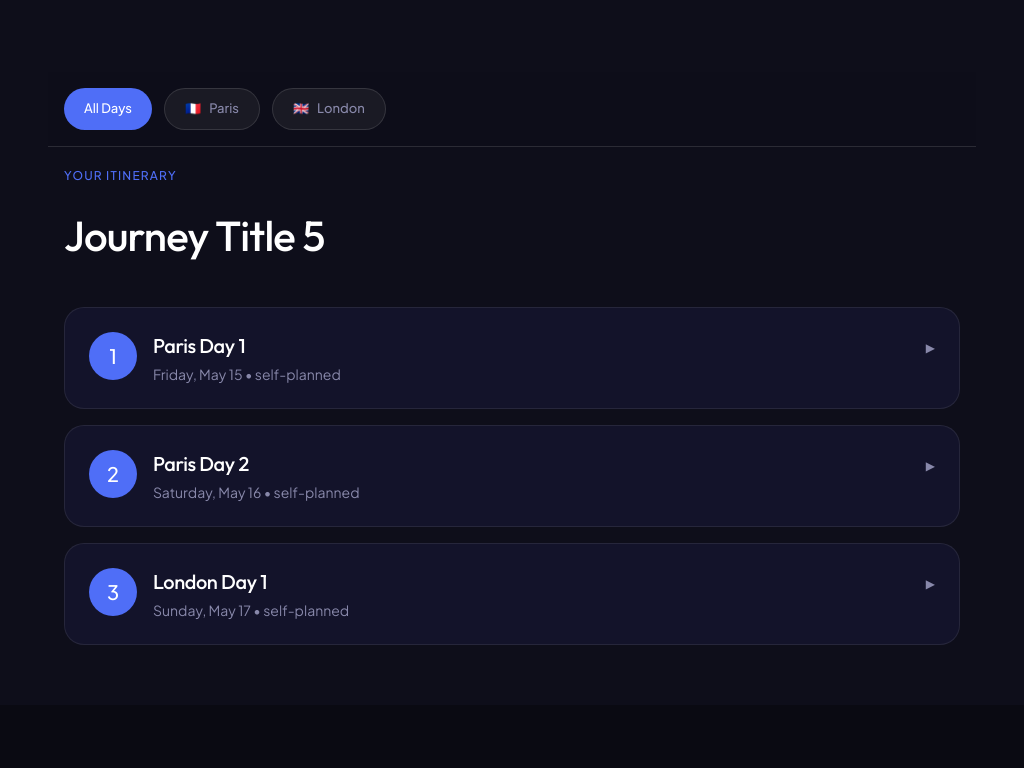
Test case: Itinerary and DayCard › Itinerary Filtering › filters by destination when a button is clicked
This screenshot has width=1024, height=768.
Click the text "Paris".
click(224, 109)  # box left=209, top=99, right=239, bottom=118
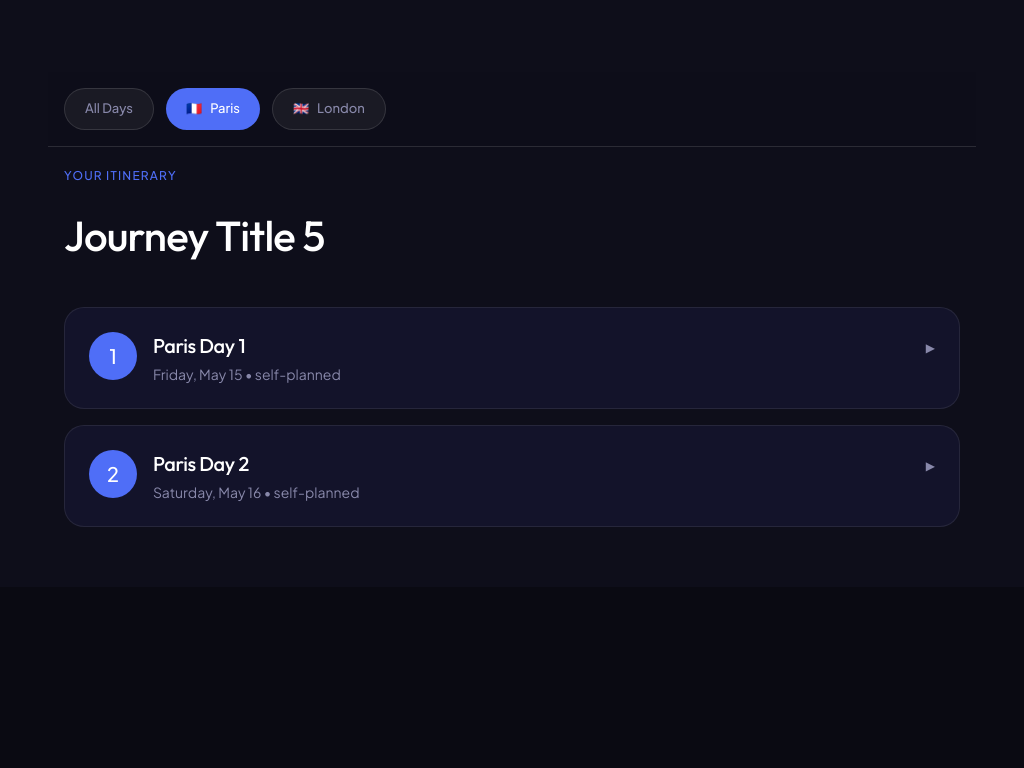
expect the heading "Paris Day 1" is shown: met, box left=153, top=333, right=245, bottom=358
expect the button "London Day 1" is gone: met
